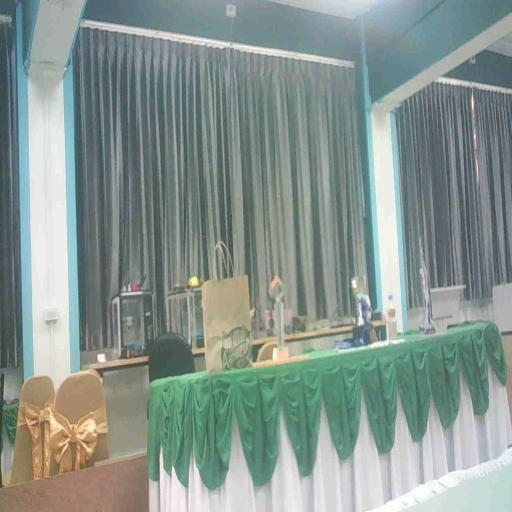bag: (198, 274, 256, 381)
